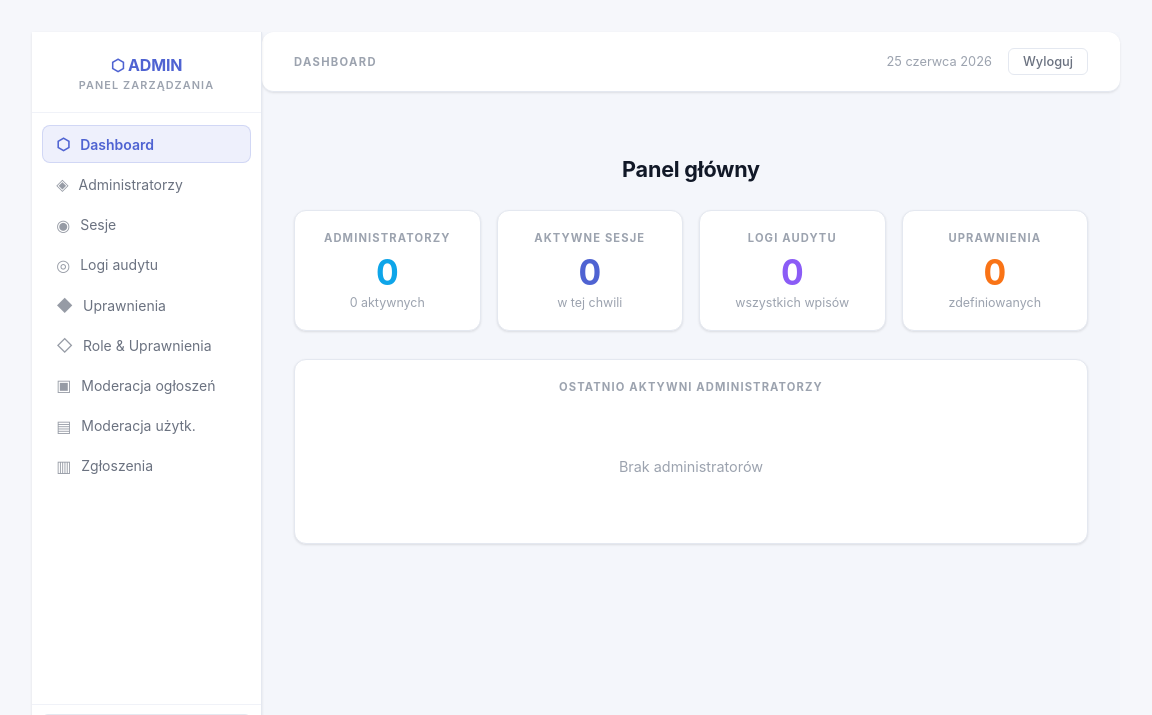
Test: AdminPanel › Widok Administratorzy › pokazuje "Brak danych", gdy lista administratorów jest pusta
The width and height of the screenshot is (1152, 715).
expect the heading "Panel główny" is shown: met, box [622,156,760,182]
Click the button "◈ Administratorzy": (146, 184) [42,165,251,204]
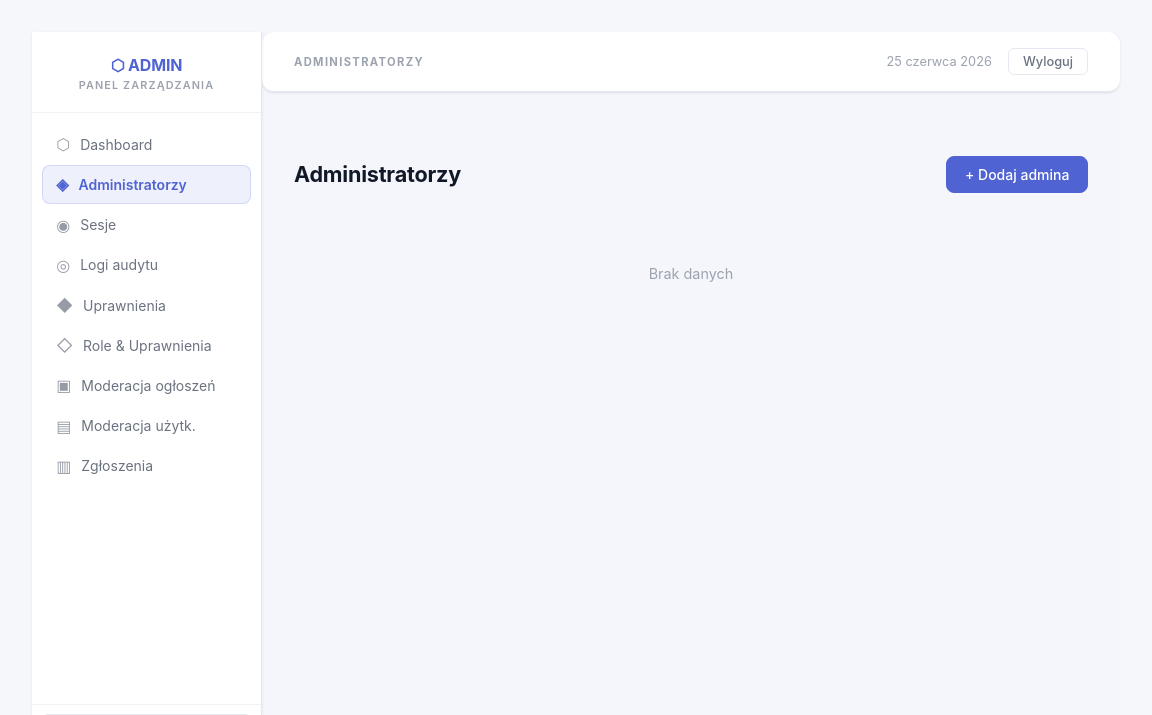
expect the button "+ Dodaj admina" is shown: met, box [946,156,1088,193]
expect the text "Brak danych" is shown: met, box [649,265,733,282]
